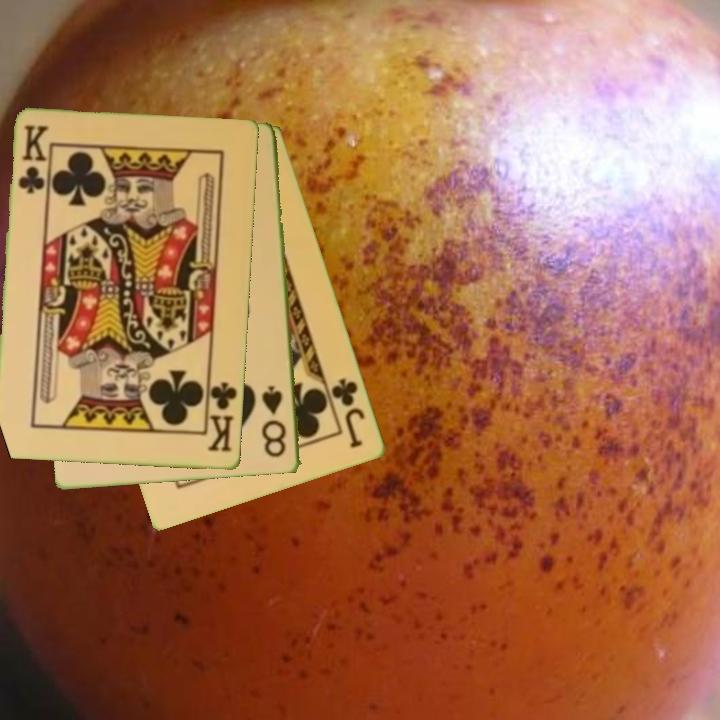8s: (258, 382, 289, 461)
Jc: (328, 375, 368, 452)
Kc: (203, 375, 241, 455), (15, 122, 49, 197)
